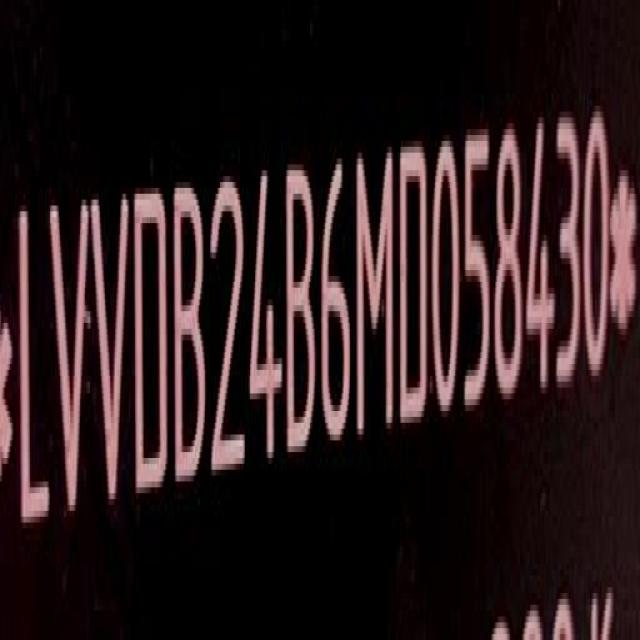0: (431, 133, 461, 427), (585, 117, 612, 386)
2: (209, 174, 248, 486)
3: (555, 110, 583, 399)
4: (250, 170, 286, 478), (526, 119, 555, 402)
5: (461, 123, 491, 420)
6: (319, 154, 352, 460)
8: (496, 120, 526, 408)
B: (175, 179, 210, 498), (288, 158, 321, 467)
D: (131, 181, 168, 507), (398, 138, 431, 436)
L: (17, 199, 51, 544)
M: (358, 146, 396, 448)
V: (47, 193, 89, 533), (92, 189, 132, 522)
